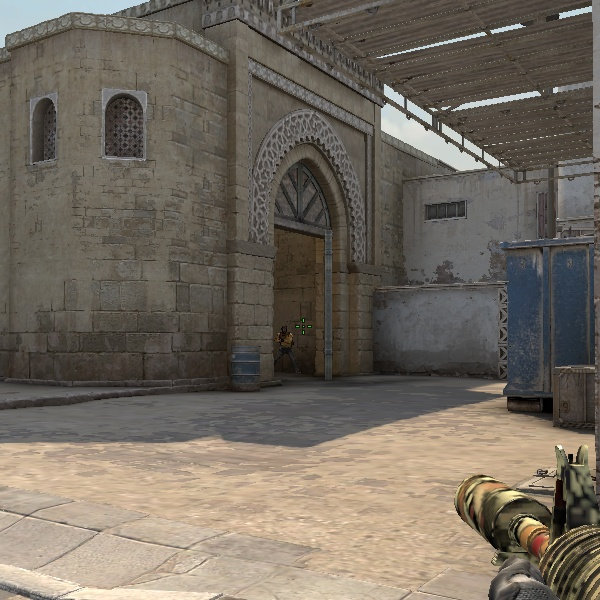t_body: (274, 324, 299, 377)
t_head: (280, 325, 288, 334)
